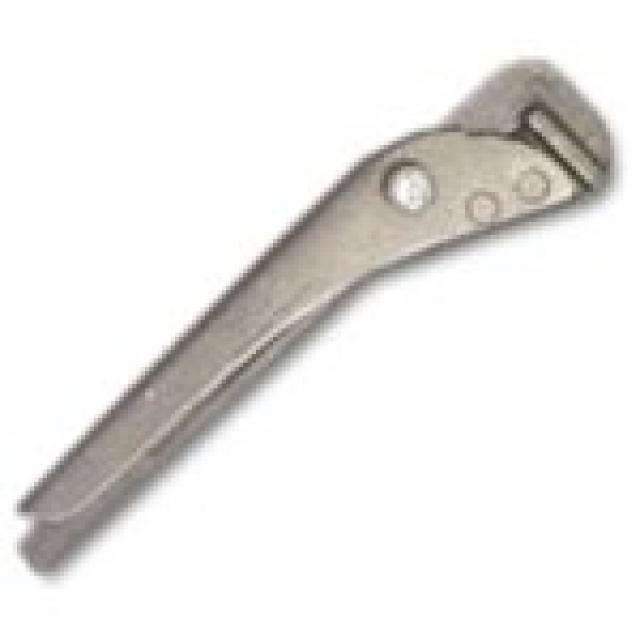wrench: (10, 44, 622, 582)
